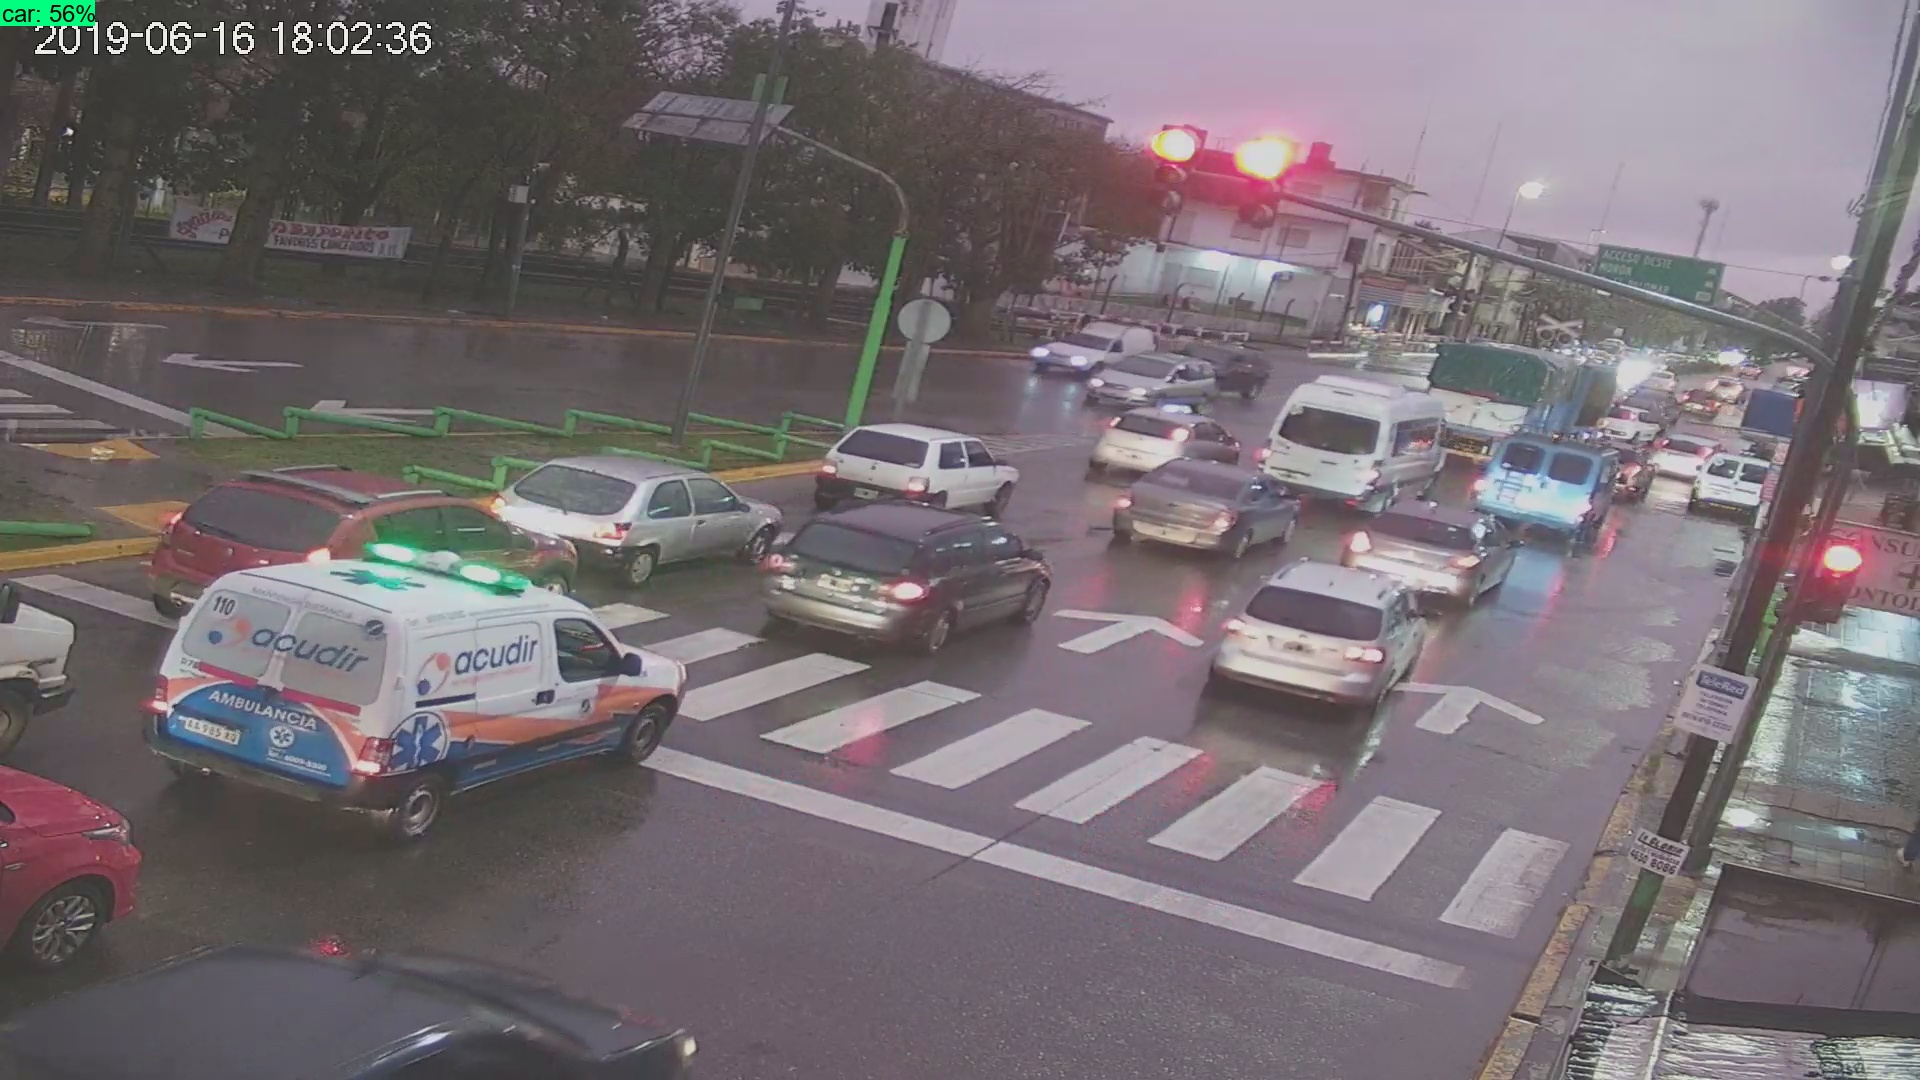car: (7, 914, 703, 1080), (742, 502, 1056, 665), (484, 448, 785, 575), (1211, 550, 1432, 711), (1, 750, 157, 967), (1276, 373, 1452, 512), (1102, 455, 1305, 564), (1341, 489, 1516, 616), (816, 427, 1033, 512), (1079, 343, 1216, 407), (1691, 438, 1768, 520)
paramedics: (141, 564, 688, 832)
